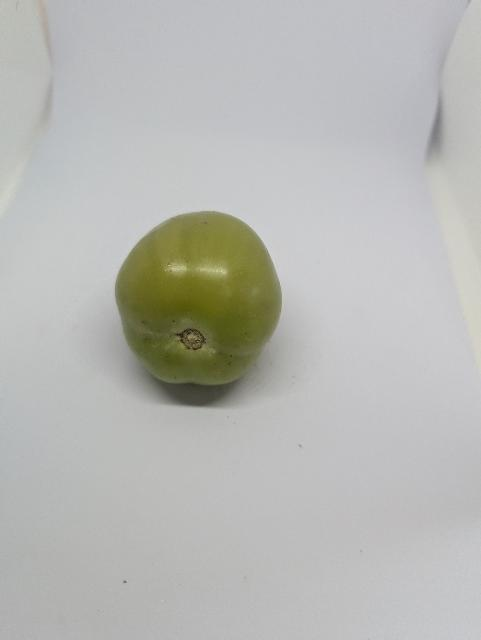green: (95, 197, 292, 398)
